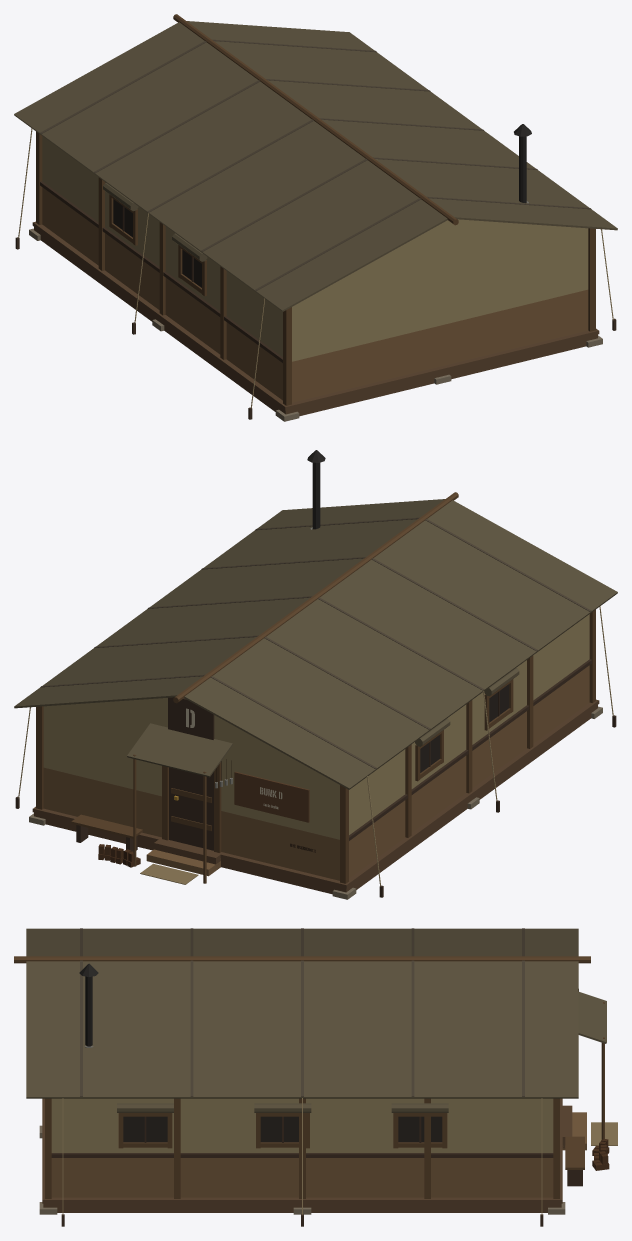
The model's file is BunkhouseD.glb.
3 renders of one model, top to bottom at view 1: azimuth 30°, elevation 25°; view 2: azimuth 150°, elevation 25°; view 3: azimuth 270°, elevation 25°, orthographic. The views are drawn at different scales.
Parts seen in each view (by area): view 1: BunkhouseD; view 2: BunkhouseD; view 3: BunkhouseD.
Boxes of the visible parts, box(x1,y1,x2,y2) form: BunkhouseD: box(14, 14, 617, 421); BunkhouseD: box(14, 450, 617, 899); BunkhouseD: box(14, 928, 617, 1226).
Size of the model in its own units: 8.88 by 5 by 12.31.
